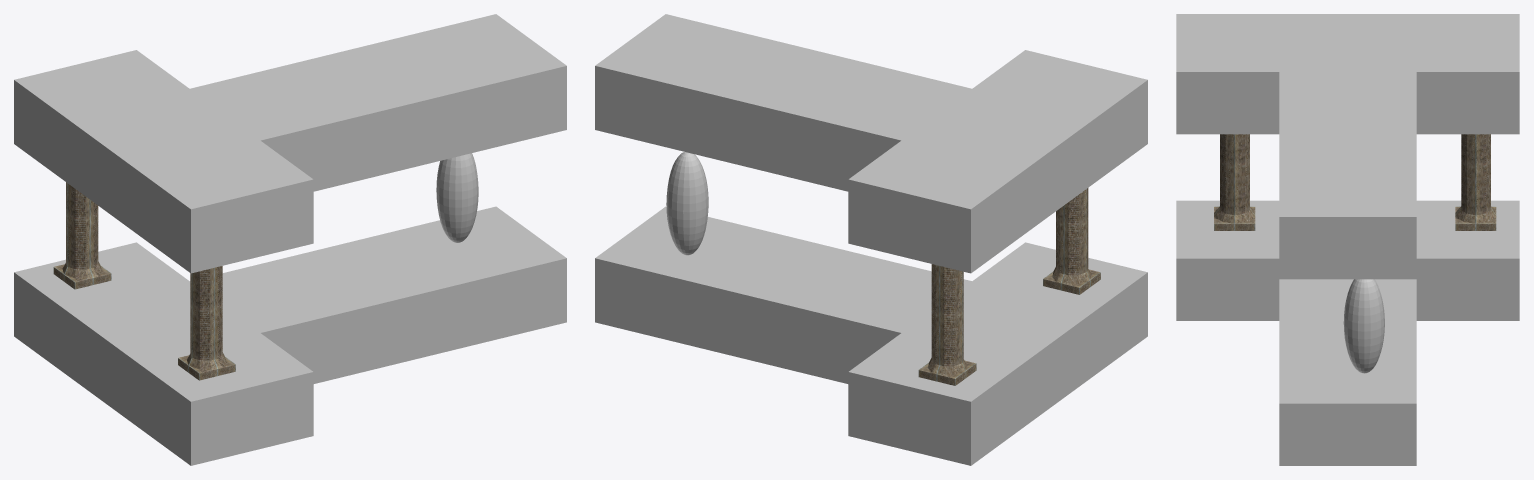
File: level1.dae
The picture shows the model from 3 angles, left to right: view 1: azimuth 30°, elevation 25°; view 2: azimuth 150°, elevation 25°; view 3: azimuth 270°, elevation 25°; orthographic projection. The views are drawn at different scales.
Visible parts, largest first — view 1: cube3, cube4, cube2, cube1, pillar5, pillar6, PLAYER_START_POSITION; view 2: cube3, cube4, cube2, cube1, pillar6, PLAYER_START_POSITION, pillar5; view 3: cube3, cube4, cube1, cube2, PLAYER_START_POSITION, pillar5, pillar6.
Part boxes in pixels (x1=…): cube3: x1=14, y1=50, x2=313, y2=273; cube4: x1=190, y1=14, x2=566, y2=191; cube2: x1=190, y1=206, x2=566, y2=383; cube1: x1=14, y1=242, x2=313, y2=465; pillar5: x1=178, y1=266, x2=235, y2=380; pillar6: x1=53, y1=182, x2=111, y2=289; PLAYER_START_POSITION: x1=436, y1=153, x2=478, y2=242; cube3: x1=848, y1=50, x2=1147, y2=273; cube4: x1=595, y1=14, x2=971, y2=191; cube2: x1=595, y1=206, x2=971, y2=383; cube1: x1=848, y1=242, x2=1147, y2=465; pillar6: x1=918, y1=264, x2=976, y2=385; PLAYER_START_POSITION: x1=666, y1=152, x2=708, y2=255; pillar5: x1=1043, y1=188, x2=1100, y2=294; cube3: x1=1176, y1=14, x2=1519, y2=134; cube4: x1=1279, y1=72, x2=1416, y2=279; cube1: x1=1176, y1=200, x2=1519, y2=320; cube2: x1=1279, y1=279, x2=1416, y2=465; PLAYER_START_POSITION: x1=1343, y1=279, x2=1384, y2=373; pillar5: x1=1214, y1=134, x2=1255, y2=230; pillar6: x1=1455, y1=134, x2=1496, y2=230.
Size of the model in its own units: 7 by 4 by 5.
